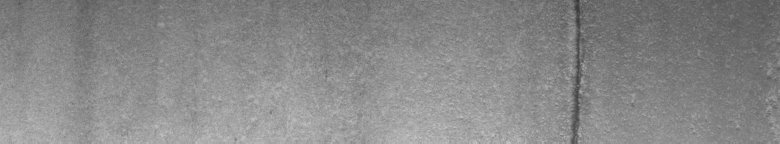hd: (564, 4, 595, 136)
